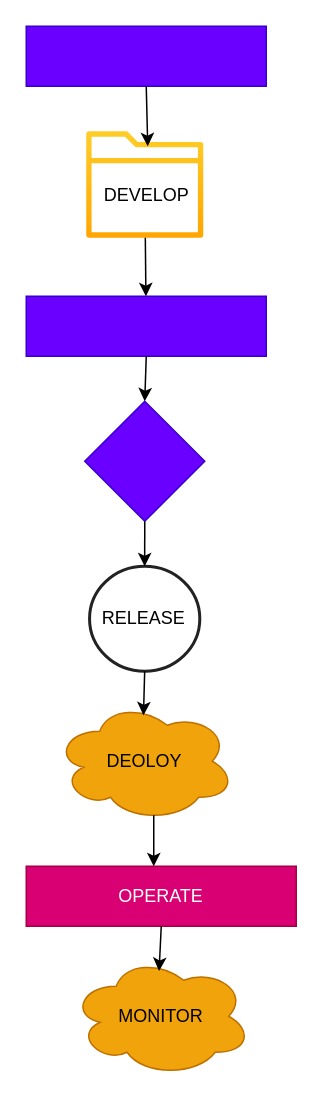
This 323x1103 diagram has some shape labels left out. Here are the shapes that lost their labels. From the top down, the centre of each, then its label:
point (145, 55): PLAN
point (145, 325): BUILD
point (144, 460): TEST
